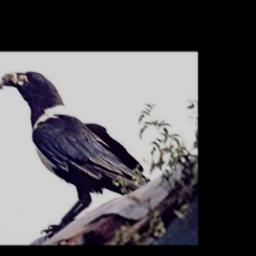Crow: (0, 70, 156, 239)
